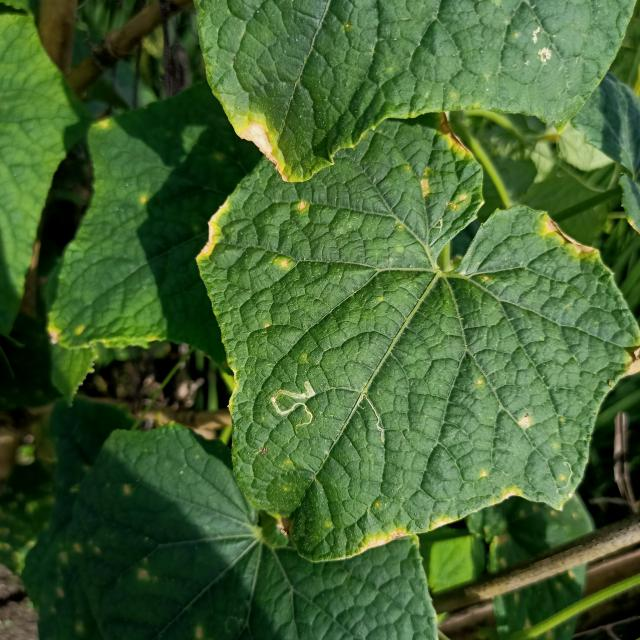disease_cucumber: (417, 132, 476, 216), (476, 468, 528, 502), (275, 255, 294, 275), (516, 413, 532, 430), (295, 199, 309, 215)
